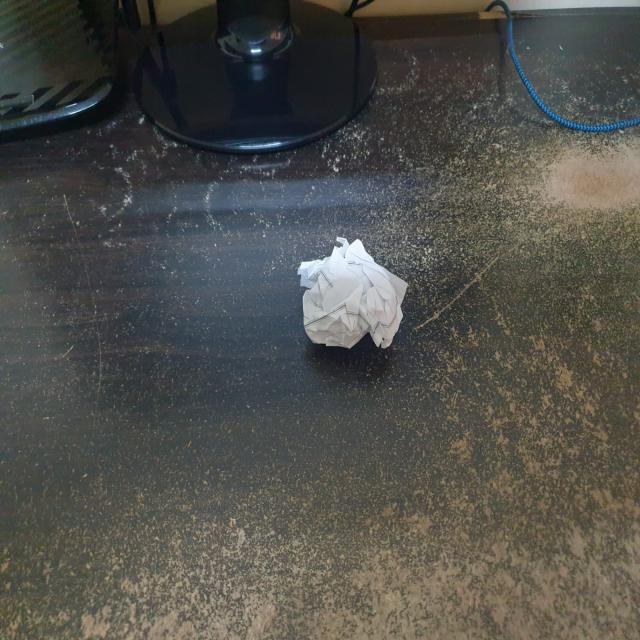Paper: (300, 239, 408, 347)
